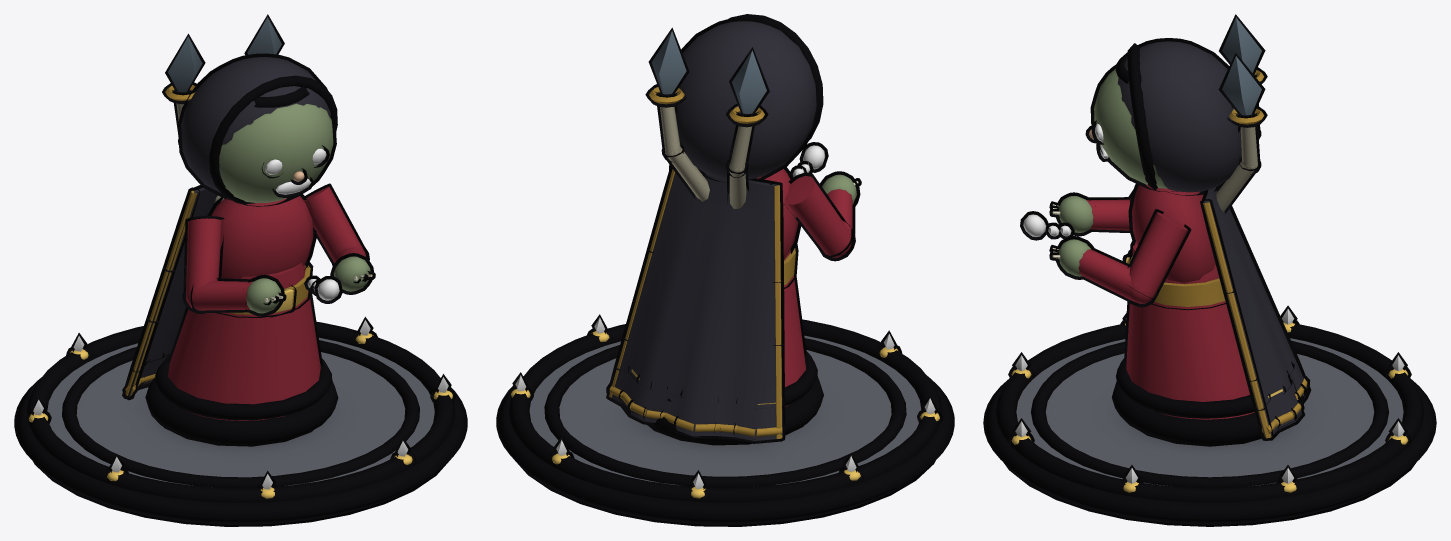
The model's file is mana_leech_s5.fbx.
3 renders of one model, left to right at view 1: azimuth 30°, elevation 25°; view 2: azimuth 150°, elevation 25°; view 3: azimuth 270°, elevation 25°, orthographic.
Parts seen in each view (by area): view 1: mana_leech_s5; view 2: mana_leech_s5; view 3: mana_leech_s5.
Part boxes in pixels (left/top/right/bottom): mana_leech_s5: left=14, top=14, right=467, bottom=526; mana_leech_s5: left=496, top=14, right=954, bottom=526; mana_leech_s5: left=983, top=14, right=1436, bottom=526.
Bounding box in the file's own units: 1.58 × 1.55 × 1.58.
2 materials, 1 textured.
